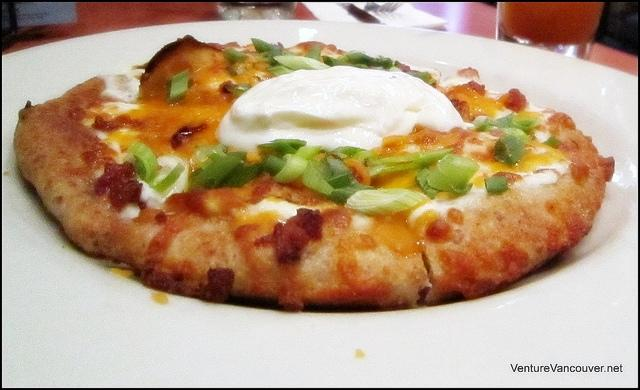green onion: (365, 148, 454, 178), (344, 188, 430, 216), (426, 153, 479, 192), (194, 156, 242, 190), (216, 160, 262, 188), (147, 162, 185, 195), (302, 160, 334, 196), (273, 153, 309, 184), (492, 136, 526, 167), (272, 55, 330, 70), (258, 138, 306, 156), (347, 53, 392, 69), (170, 68, 190, 102), (318, 158, 350, 179), (260, 154, 286, 174), (484, 174, 509, 194), (294, 145, 322, 161), (352, 150, 379, 166), (222, 47, 249, 63), (332, 146, 367, 158), (408, 72, 436, 86), (326, 173, 350, 189), (250, 38, 272, 54), (473, 115, 493, 132), (228, 84, 252, 98), (304, 44, 321, 62), (269, 65, 294, 76), (540, 136, 560, 148), (338, 54, 350, 62), (246, 44, 256, 51), (352, 64, 369, 68)
